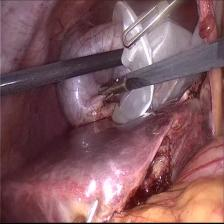Grasper: (117, 0, 185, 57), (96, 73, 125, 110)
Specimen Bag: (111, 3, 214, 132)
